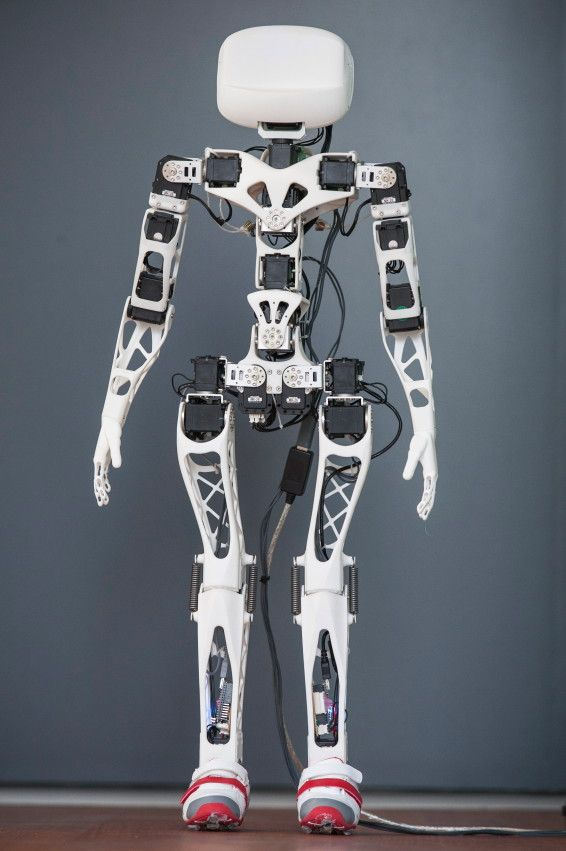person-like: (85, 15, 447, 842)
